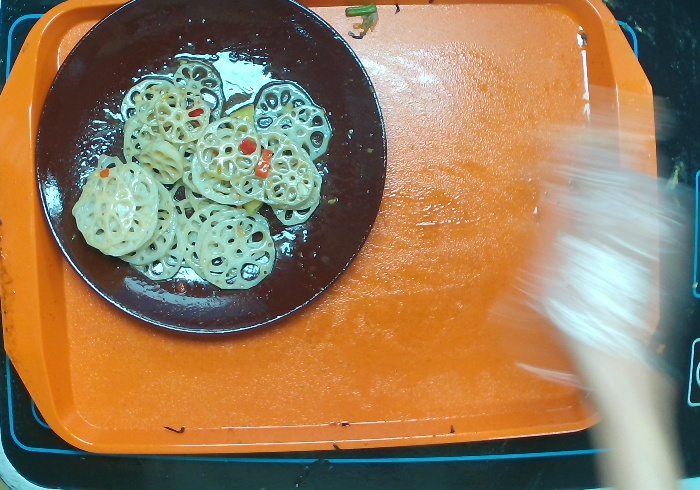HZYJPL-Ka_Fei_Yuan_Pan: (29, 1, 392, 345)
